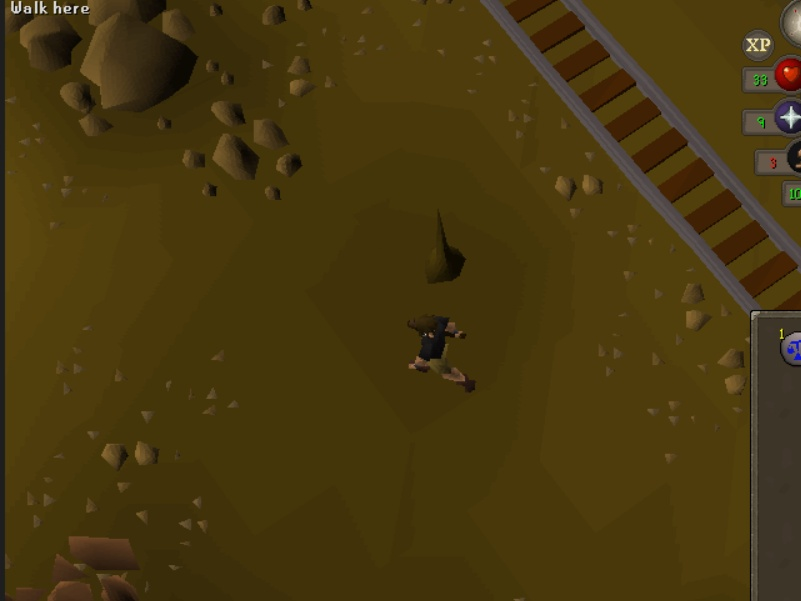copper: (41, 523, 145, 601)
